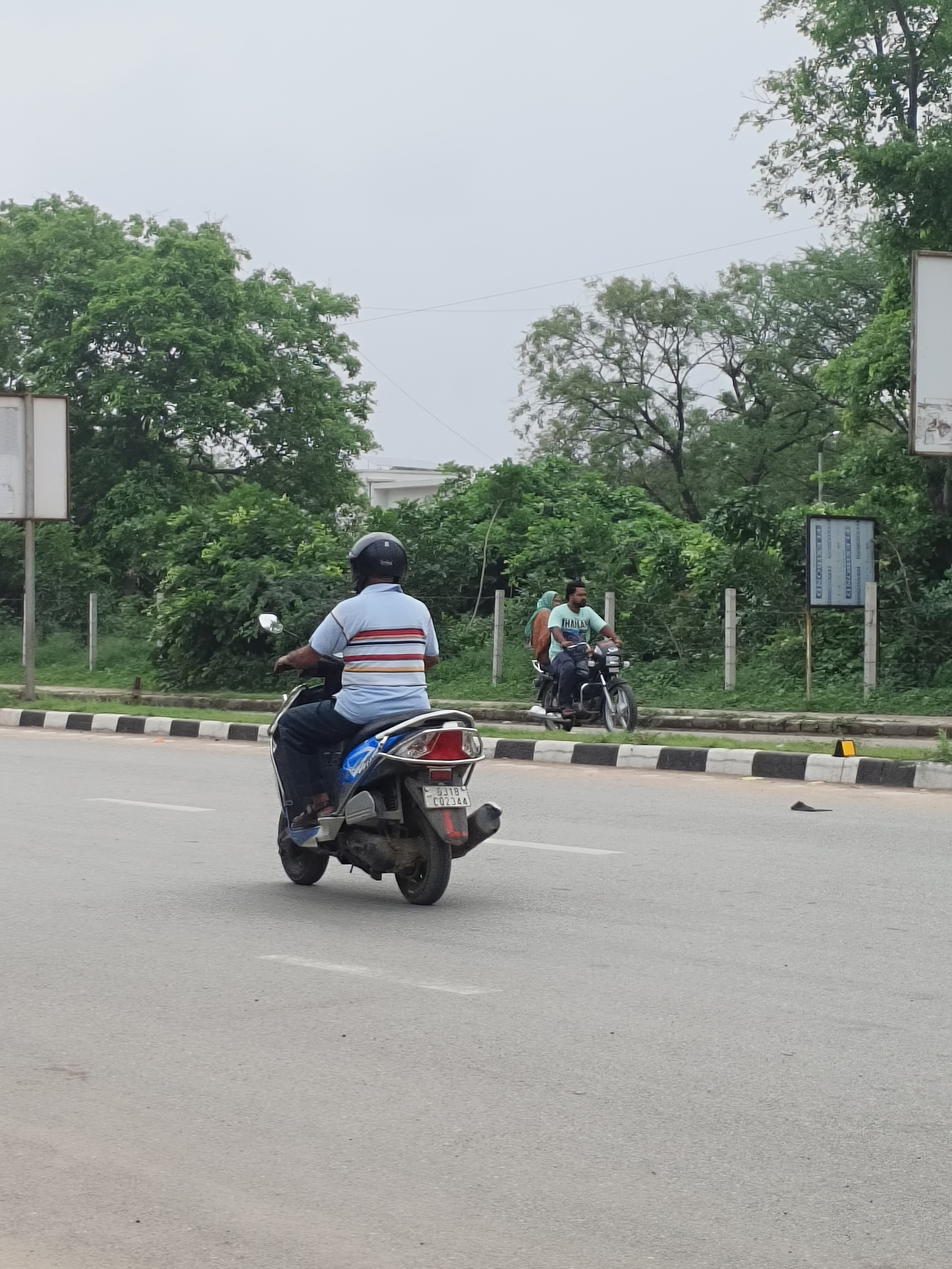BikeWithRider: (245, 522, 507, 913), (521, 580, 641, 737)
Helmet: (337, 523, 419, 602)
NoHelmet: (532, 584, 564, 619), (564, 580, 592, 612)
